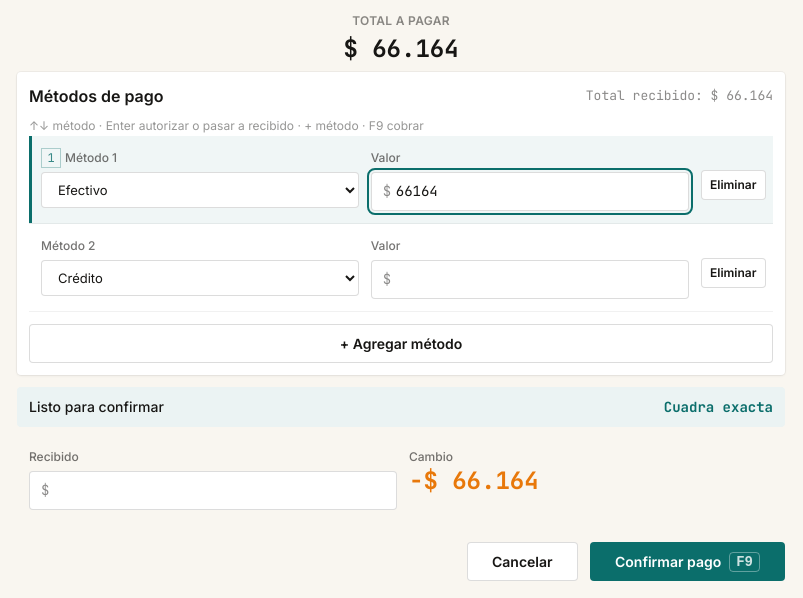
PaymentProcessing › blocks CREDIT payment confirmation until a registered client is selected
This screenshot has width=803, height=598.
Select "Crédito" in the dropdown labelled "Método 2": (200, 278) [41, 260, 359, 296]
Replace the text in the number field labelled "Valor" below "Método 1" with "0": (530, 191) [371, 172, 689, 211]
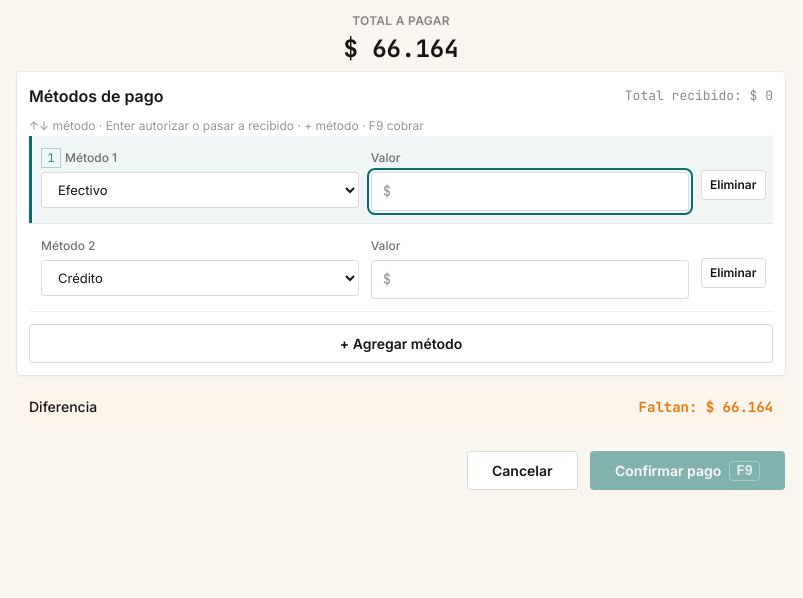
In the 2nd number field labelled "Valor": (530, 279) [371, 260, 689, 299], type "66164"
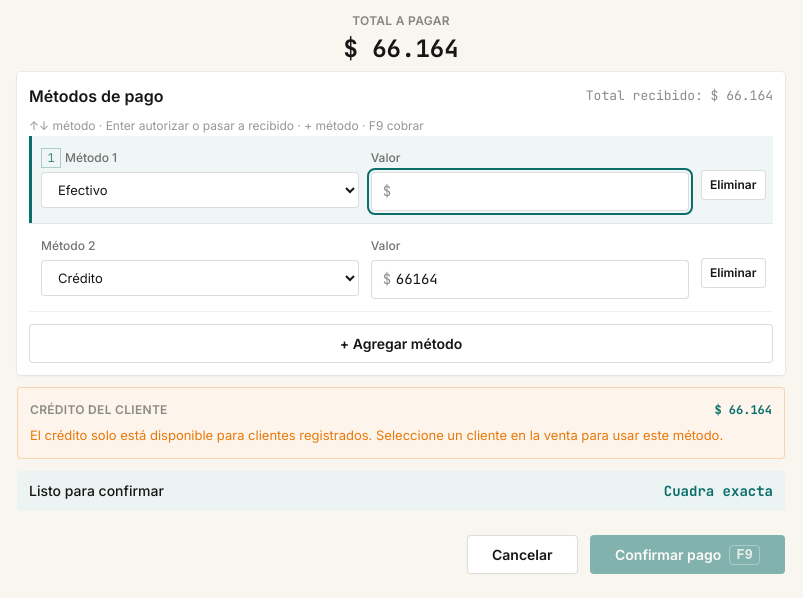
Check: the button "Confirmar pago F9" is disabled, box [590, 535, 785, 574]
Check: the text "El crédito solo está disponible para clientes registrados" is shown, box [30, 427, 723, 443]
